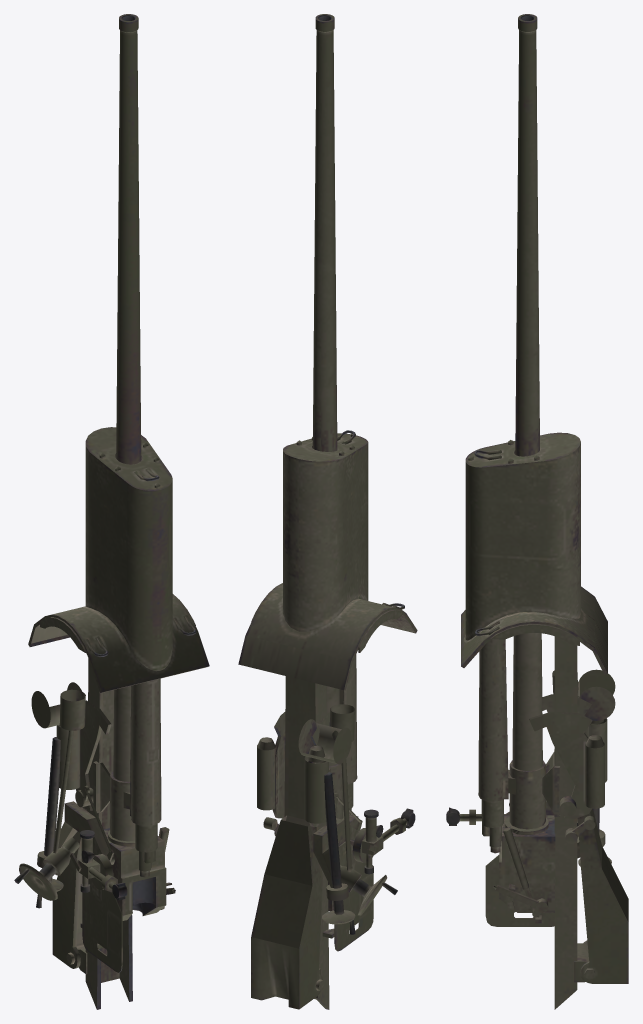
File: Gun_04.glb
3 views of the same model, side by side, from view 1: azimuth 30°, elevation 25°; view 2: azimuth 150°, elevation 25°; view 3: azimuth 270°, elevation 25° (orthographic). The views are drawn at different scales.
Parts seen in each view (by area): view 1: set_0_group_0; view 2: set_0_group_0; view 3: set_0_group_0.
Boxes of the visible parts, <box> form: set_0_group_0: <box>14,14,209,1009</box>; set_0_group_0: <box>238,14,417,1009</box>; set_0_group_0: <box>446,14,628,1009</box>.
Bounding box in the file's own units: 0.7199 × 4.81 × 0.8089.
Materials: 1 (1 with a texture image).
